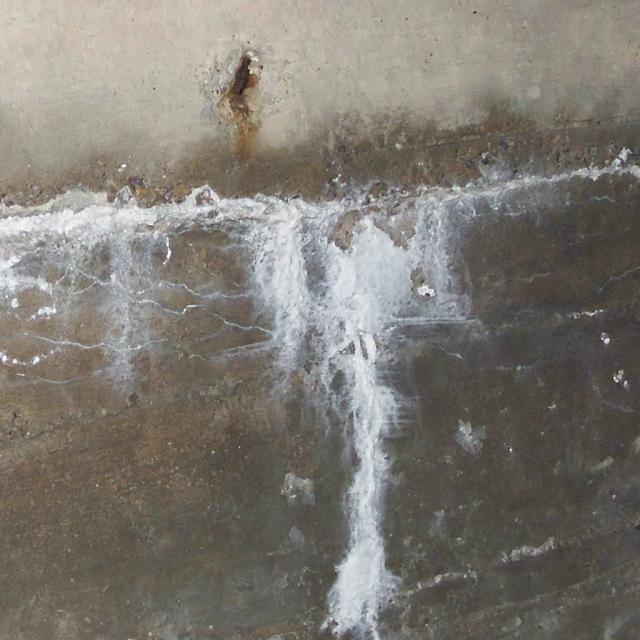D01: (22, 173, 579, 637)
